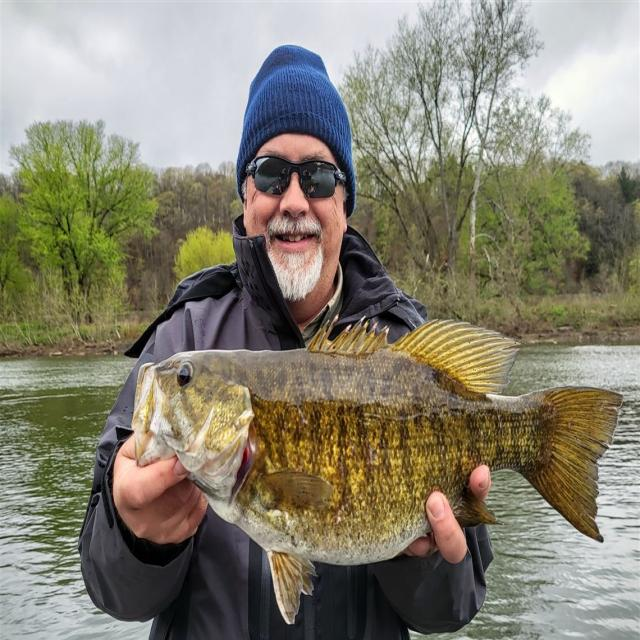Bass - Smallmouth: (132, 320, 622, 623)
